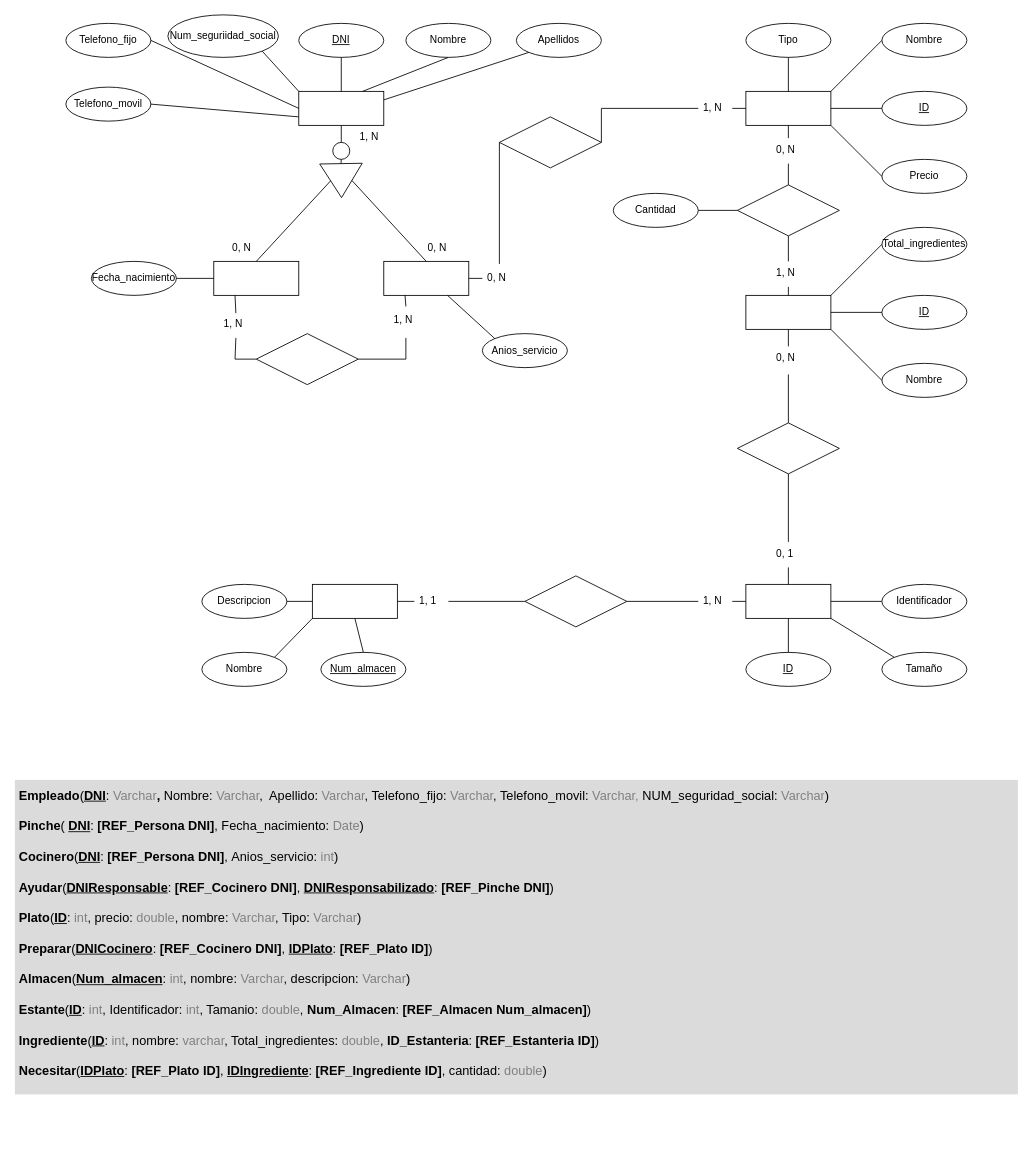
The diagram is 1032 pixels wide and 1170 high, and some of its shapes have lost their labels. Each missing label, with the centre of its shape:
"Almacen" goes at (354,601).
"Ayudar" goes at (306,359).
"Cocinero" goes at (426,278).
"Empleado" goes at (341,108).
"Estante" goes at (788,601).
"Guardar" goes at (788,448).
"Ingrediente" goes at (788,312).
"Necesitar" goes at (788,210).
"Pinche" goes at (256,278).
"Plato" goes at (788,108).
"Preparar" goes at (550,142).
"Ubicar" goes at (575,601).
